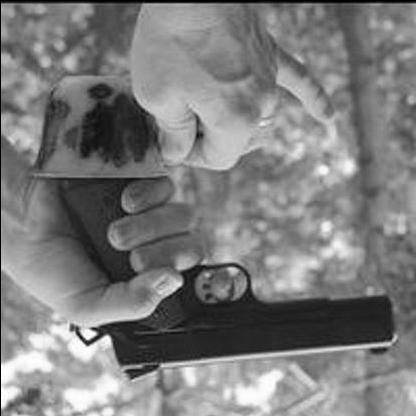weapon: (54, 173, 405, 384)
